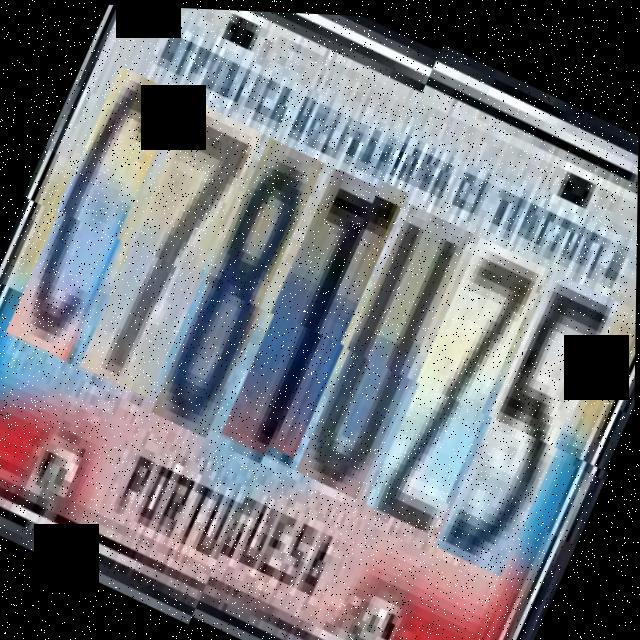5: (432, 272, 620, 584)
7: (79, 97, 265, 403)
8: (152, 132, 328, 440)
C: (6, 63, 186, 367)
T: (220, 162, 409, 469)
U: (293, 206, 474, 509)
Z: (362, 237, 547, 543)
